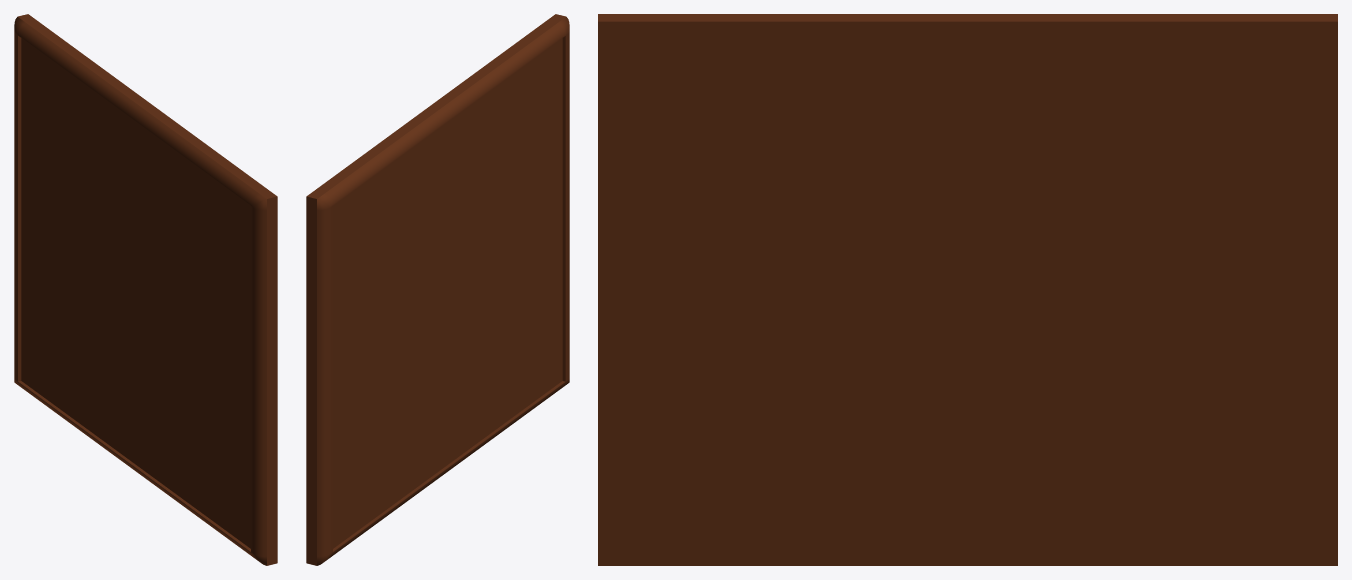
Rendered from CorkPoster.fbx.
3 renders of one model, left to right at view 1: azimuth 30°, elevation 25°; view 2: azimuth 150°, elevation 25°; view 3: azimuth 270°, elevation 25°, orthographic. The views are drawn at different scales.
Parts seen in each view (by area): view 1: PosterBoard; view 2: PosterBoard; view 3: PosterBoard.
Part boxes in pixels (x1,y1,x2,y2): PosterBoard: (14, 14, 277, 565); PosterBoard: (306, 14, 569, 565); PosterBoard: (598, 14, 1337, 565).
Size of the model in its own units: 3.25 by 62.4 by 76.86.
